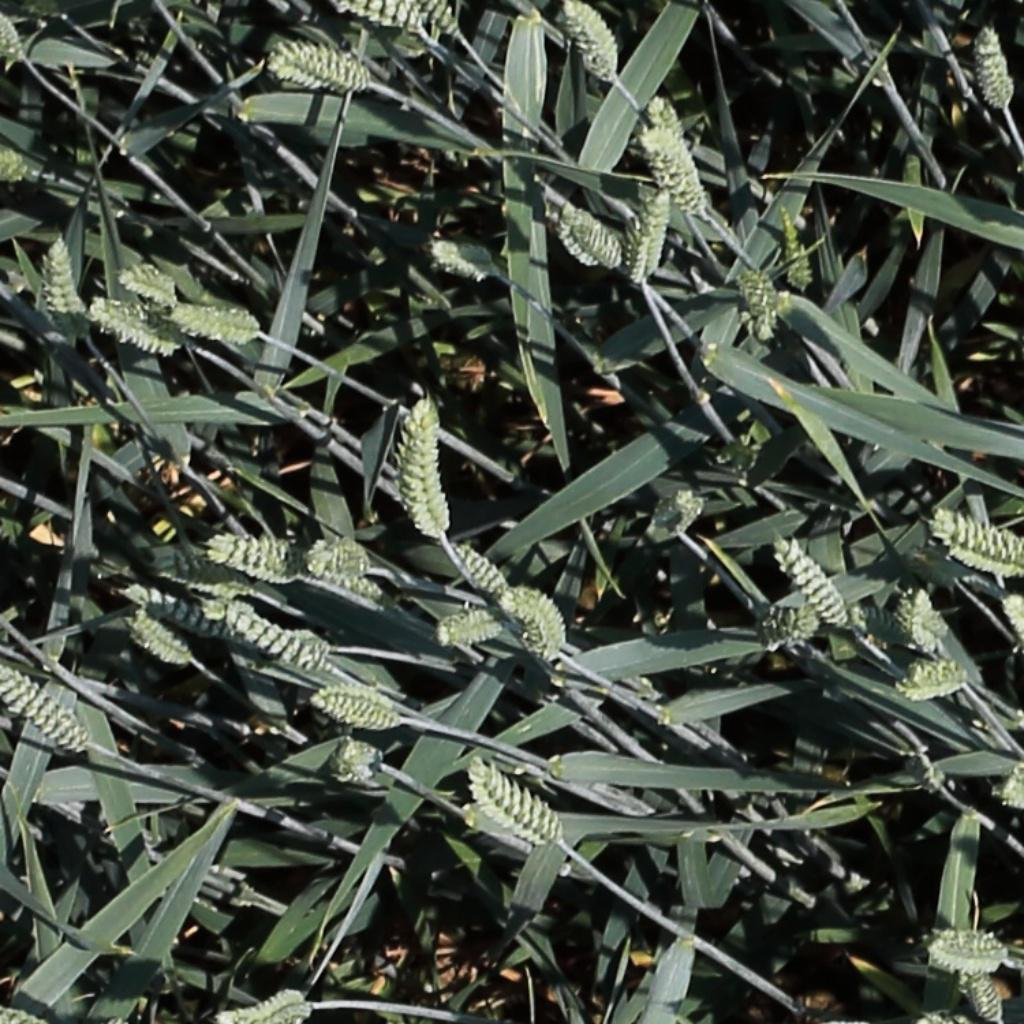0-0: (0, 660, 88, 755), (468, 763, 566, 846), (122, 582, 243, 648), (217, 603, 324, 667), (641, 122, 709, 217), (774, 534, 843, 625), (205, 529, 303, 587), (562, 0, 622, 86), (402, 400, 438, 533), (931, 512, 1022, 563), (41, 225, 84, 331), (505, 587, 569, 658), (928, 917, 1014, 968), (305, 550, 385, 603), (634, 182, 675, 285), (91, 304, 177, 353), (566, 203, 628, 267), (277, 45, 372, 86), (776, 197, 816, 293), (128, 608, 191, 666), (738, 260, 783, 339), (747, 599, 821, 647), (976, 21, 1014, 114), (454, 540, 512, 600), (311, 693, 401, 729), (172, 303, 260, 337), (438, 597, 503, 641), (899, 661, 965, 704), (832, 604, 915, 636), (965, 962, 1006, 1024), (647, 87, 689, 146), (221, 995, 311, 1022), (320, 684, 403, 713), (430, 240, 490, 279), (341, 0, 424, 27), (118, 267, 180, 303), (897, 586, 934, 645), (330, 744, 379, 786), (996, 750, 1024, 820), (406, 0, 467, 30), (0, 2, 28, 66), (674, 484, 703, 540), (999, 589, 1024, 653), (262, 1002, 311, 1024), (0, 1011, 49, 1024), (0, 157, 30, 176)
